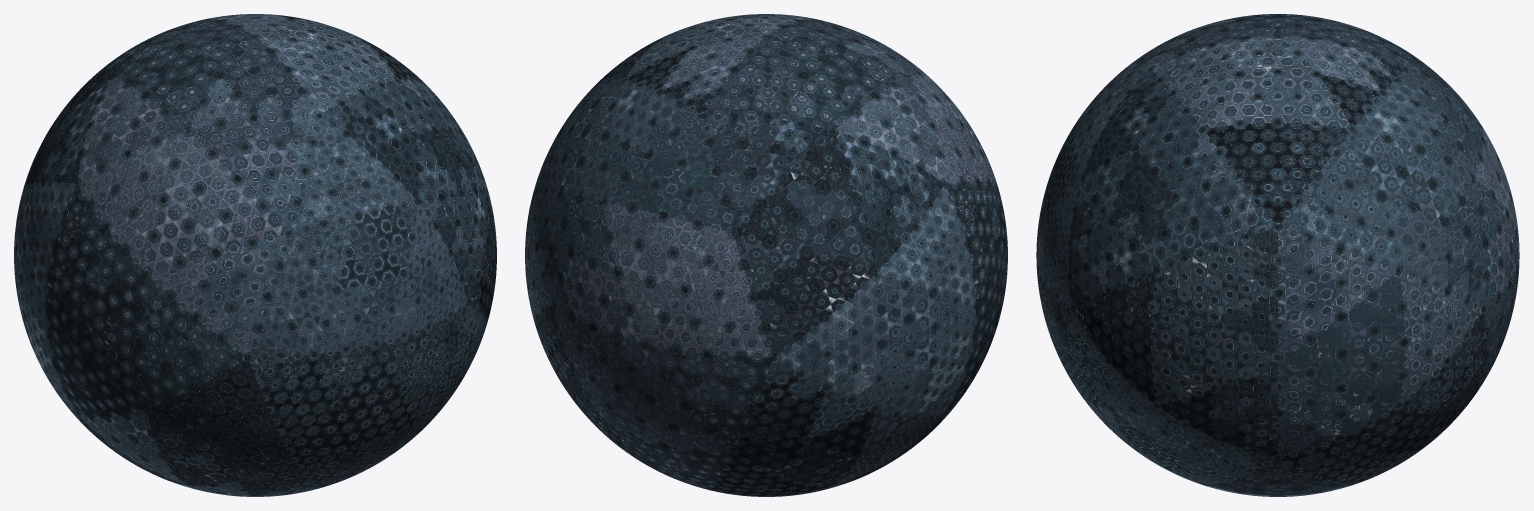
The model's file is land2.obj.
The picture shows the model from 3 angles, left to right: view 1: azimuth 30°, elevation 25°; view 2: azimuth 150°, elevation 25°; view 3: azimuth 270°, elevation 25°; orthographic projection.
Parts seen in each view (by area): view 1: Mesh_Object; view 2: Mesh_Object; view 3: Mesh_Object.
Part boxes in pixels (box(x1,y1,x2,y2)): Mesh_Object: box(14, 14, 496, 496); Mesh_Object: box(525, 14, 1007, 496); Mesh_Object: box(1036, 14, 1519, 496).
Bounding box in the file's own units: 13.31 × 13.31 × 13.31.
